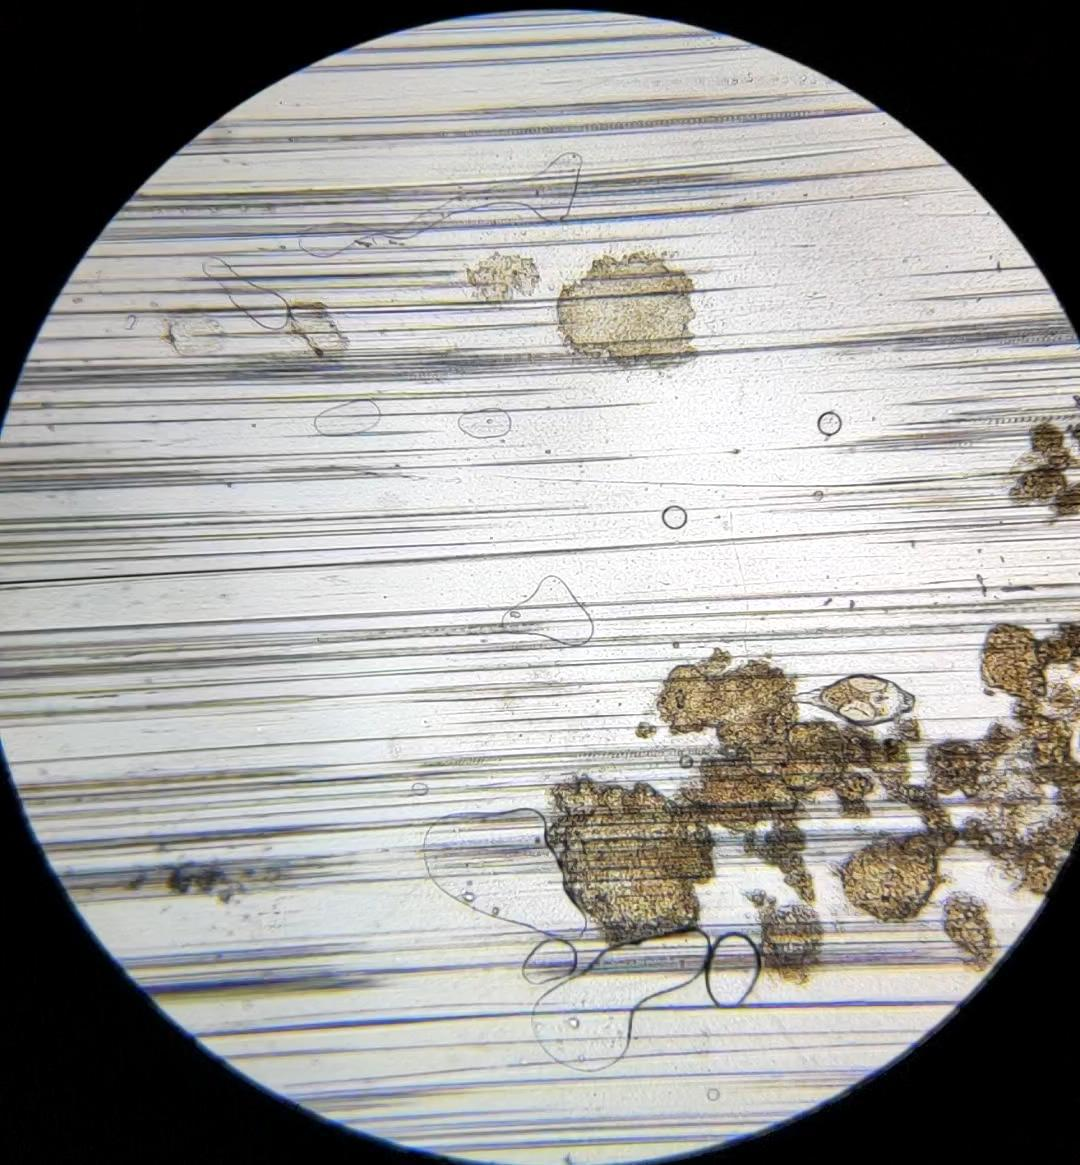Do: (790, 675, 915, 725)
